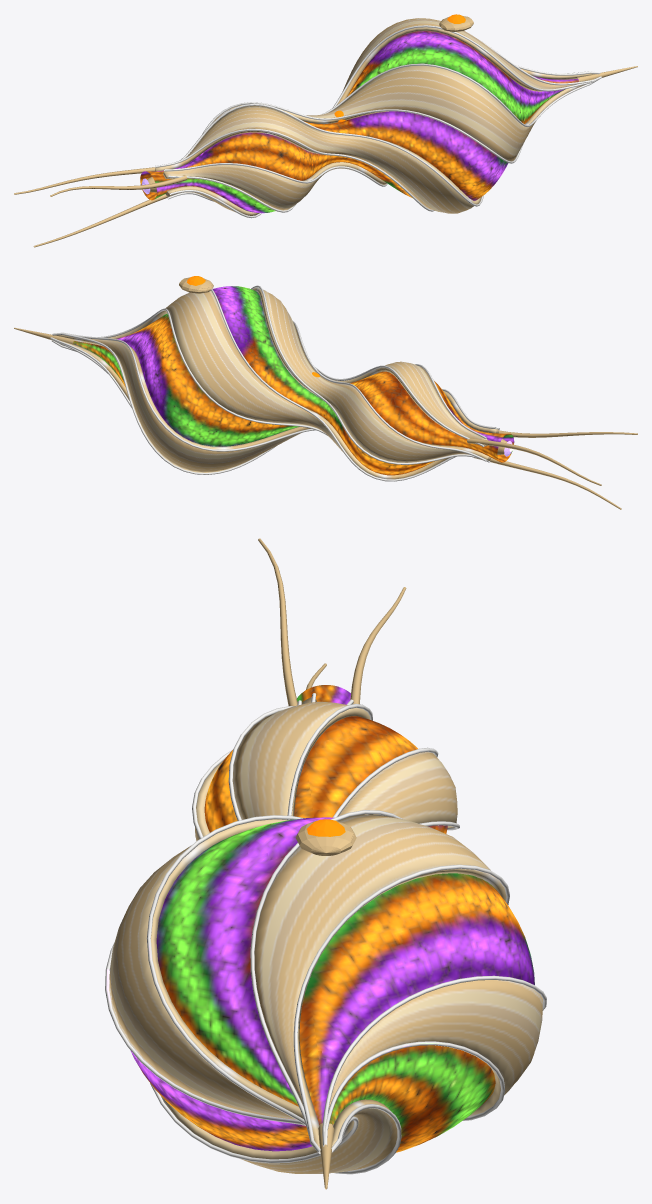
Rendered from ithar_GV2.gltf.
3 renders of one model, top to bottom at view 1: azimuth 30°, elevation 25°; view 2: azimuth 150°, elevation 25°; view 3: azimuth 270°, elevation 25°, orthographic. The views are drawn at different scales.
Parts seen in each view (by area): view 1: ithar_GV2; view 2: ithar_GV2; view 3: ithar_GV2.
Part boxes in pixels (<box>): ithar_GV2: <box>14,15,637,247</box>; ithar_GV2: <box>14,277,637,509</box>; ithar_GV2: <box>105,538,546,1189</box>.
Size of the model in its own units: 1 by 0.29 by 0.3168.
5 materials, 2 textured.
